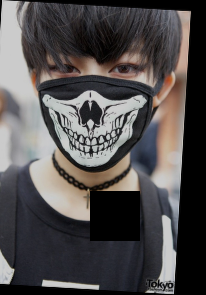with_mask: (35, 38, 154, 174)
